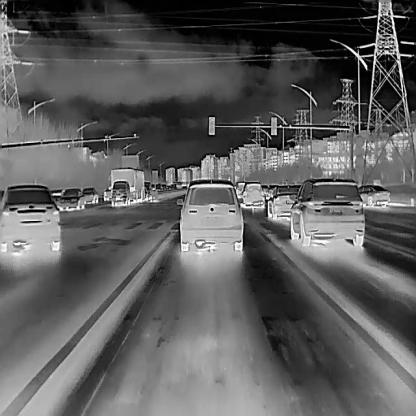car: (289, 178, 364, 244), (176, 179, 243, 250), (1, 182, 59, 253), (267, 185, 299, 219), (357, 183, 390, 206), (242, 180, 264, 208), (58, 188, 85, 208), (82, 186, 98, 202), (144, 180, 152, 201), (103, 186, 110, 202), (150, 183, 157, 199), (156, 182, 160, 192), (162, 183, 166, 191)
truck: (110, 168, 144, 206)
